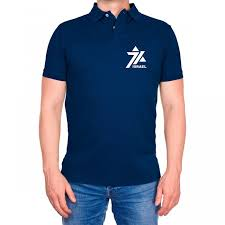C_polo shirt: (42, 4, 182, 181)
